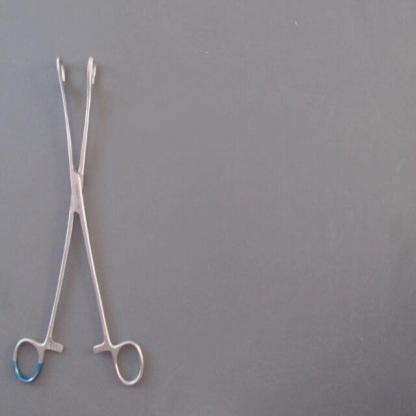Sponge Forceps: (8, 41, 151, 393)
